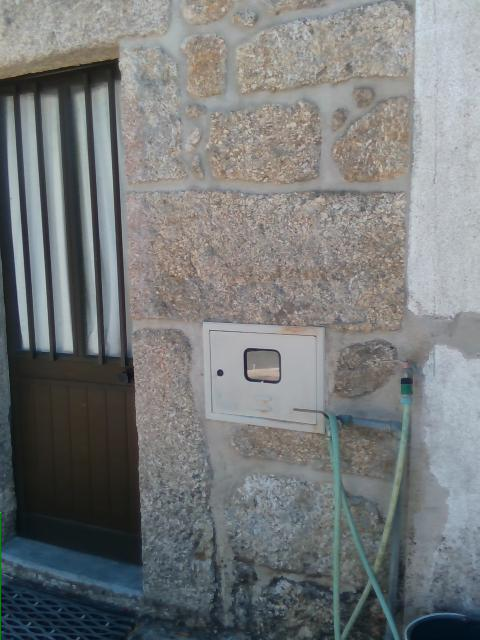door: (0, 43, 143, 599)
